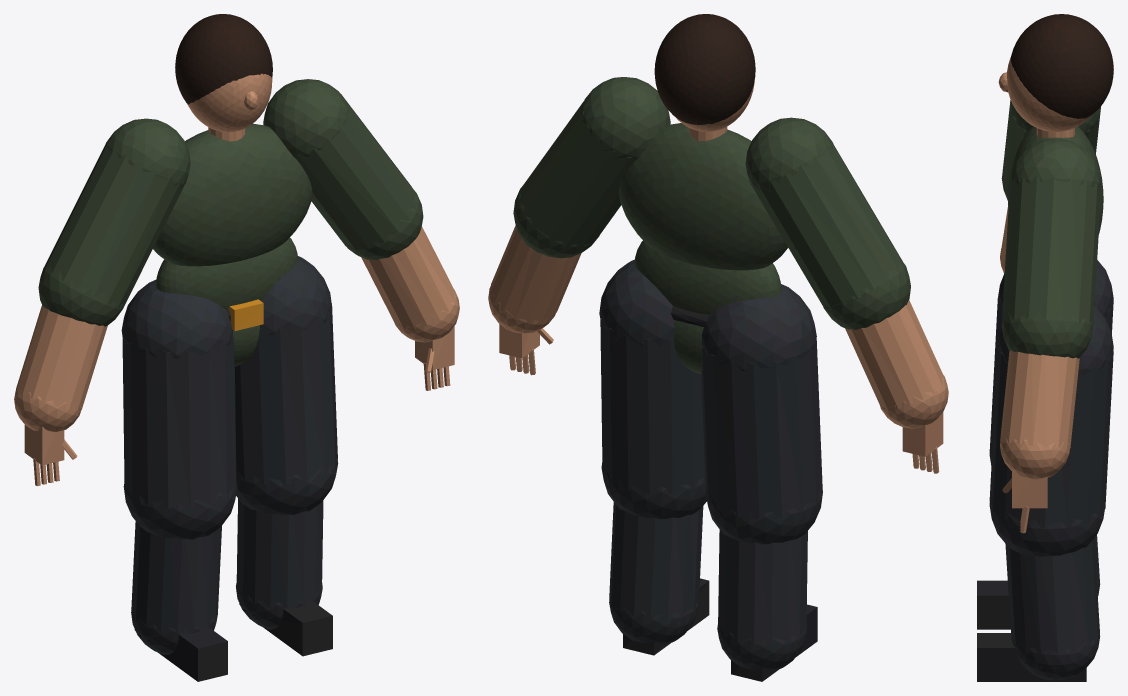
The model's file is athletic_male_combatant.glb.
3 renders of one model, left to right at view 1: azimuth 30°, elevation 25°; view 2: azimuth 150°, elevation 25°; view 3: azimuth 270°, elevation 25°, orthographic. The views are drawn at different scales.
Visible parts, largest first — view 1: Trousers, Shirt, Body_skin, Hair, Boots, Hands, Head, Belt_accent, Body_primary; view 2: Trousers, Shirt, Body_skin, Hair, Hands, Boots, Body_primary; view 3: Trousers, Shirt, Body_skin, Hair, Boots, Head, Hands.
Part boxes in pixels (x1,y1,x2,y2): Trousers: (121,256,338,654); Shirt: (38,79,423,326); Body_skin: (14,127,459,432); Hair: (175,14,272,104); Boots: (134,602,332,681); Hands: (24,325,454,486); Head: (188,73,272,132); Belt_accent: (229,299,263,331); Body_primary: (233,325,259,366); Trousers: (599,259,822,671); Shirt: (513,77,910,329); Body_skin: (488,127,948,428); Hair: (654,14,755,124); Hands: (499,324,943,473); Boots: (614,578,817,681); Body_primary: (674,320,703,373); Trousers: (989,260,1113,680); Shirt: (1001,100,1103,358); Body_skin: (1000,128,1079,479); Hair: (1011,14,1113,118); Boots: (977,580,1093,681); Head: (998,57,1090,131); Hands: (1002,468,1047,533).
Bounding box in the file's own units: 1.36 × 1.84 × 0.3599.
